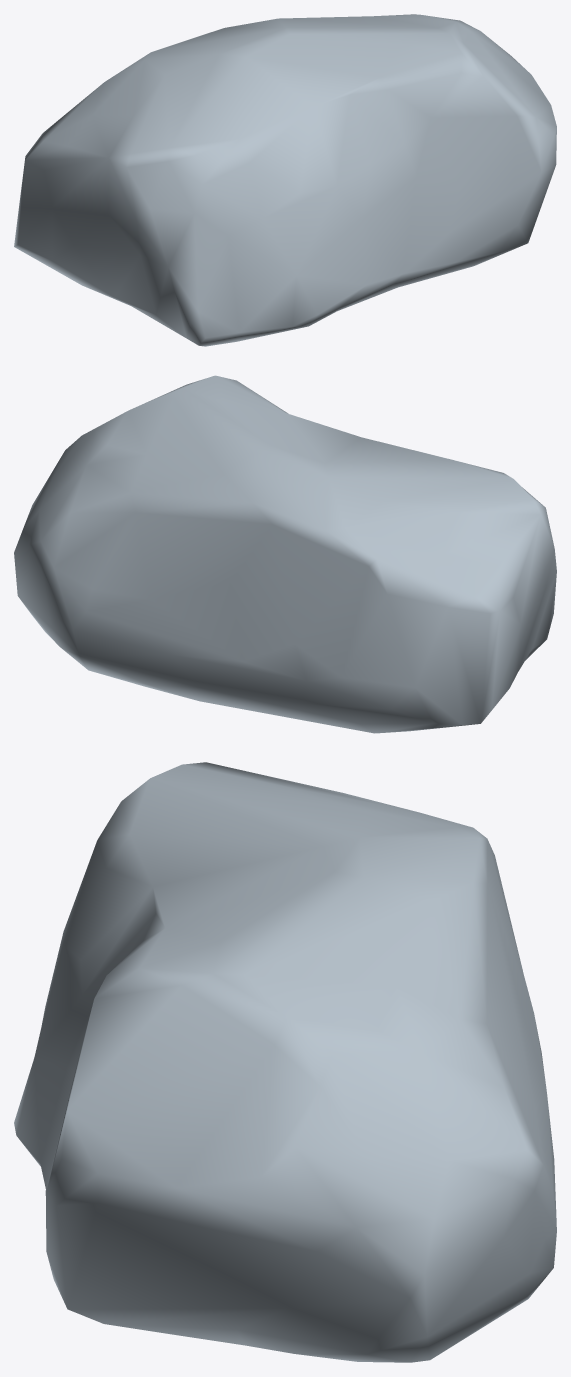
File: itch_assetquest_pond_rock_4b.glb
3 views of the same model, one above another, from view 1: azimuth 30°, elevation 25°; view 2: azimuth 150°, elevation 25°; view 3: azimuth 270°, elevation 25° (orthographic). The views are drawn at different scales.
Parts seen in each view (by area): view 1: Rock_4b; view 2: Rock_4b; view 3: Rock_4b.
Part boxes in pixels (bbox=[...]): Rock_4b: bbox=[14, 14, 556, 346]; Rock_4b: bbox=[14, 375, 556, 733]; Rock_4b: bbox=[14, 762, 556, 1362].
Size of the model in its own units: 1.18 by 0.5526 by 0.7219.
